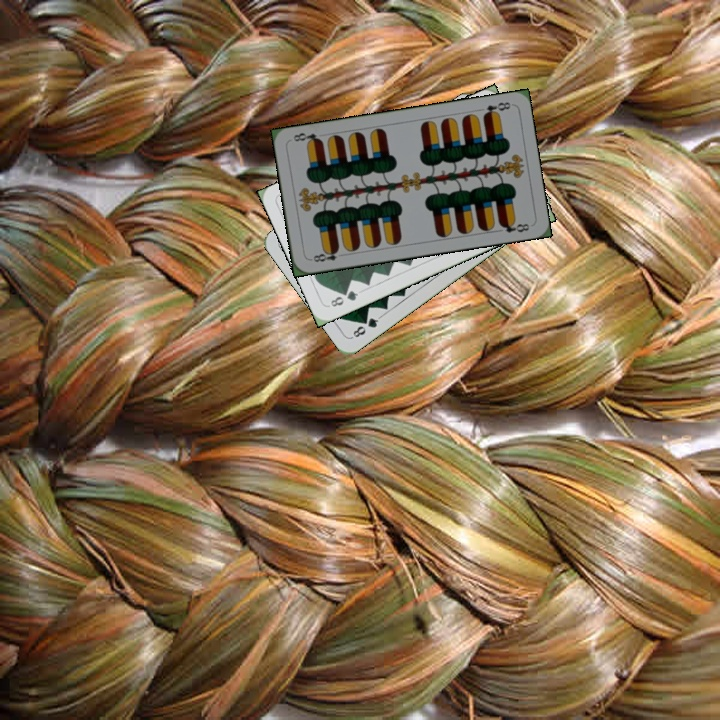E8: (306, 245, 347, 264), (479, 98, 513, 120)
G8: (348, 312, 383, 341), (326, 286, 361, 310)
